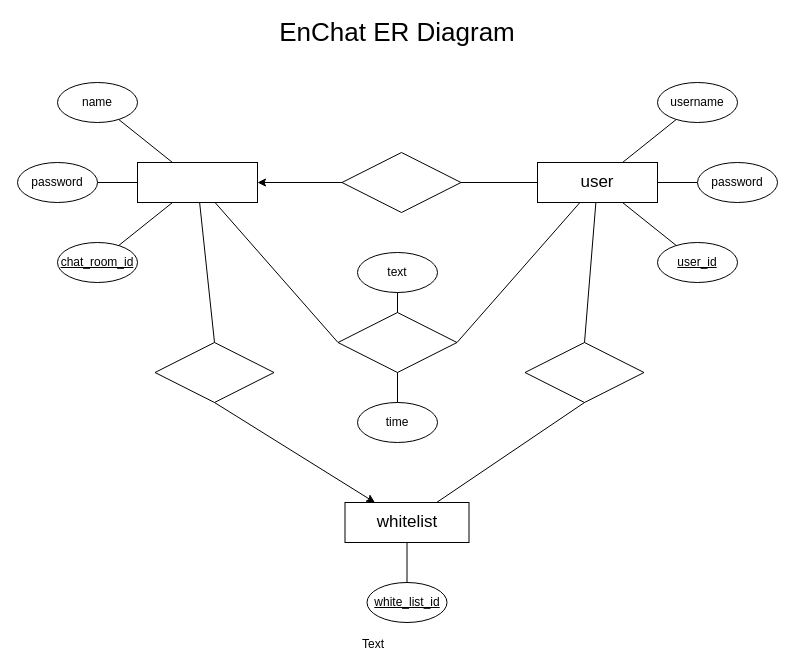
The diagram is 795 pixels wide and 672 high, and some of its shapes have lost their labels. The centre of each missing label's shape, as x and y in pixels:
"chat_room" belongs at (x=197, y=182).
"has_a" belongs at (x=214, y=372).
"is_on" belongs at (x=584, y=372).
"owns" belongs at (x=401, y=182).
"sends_messages" belongs at (x=397, y=342).
